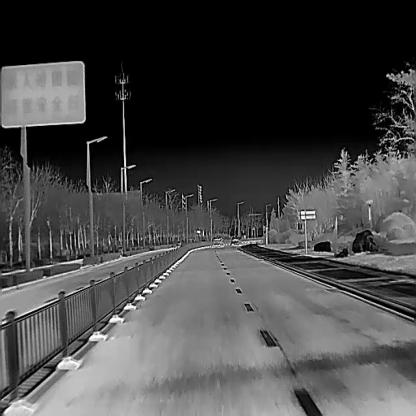car: (211, 236, 223, 247), (230, 236, 241, 246)
